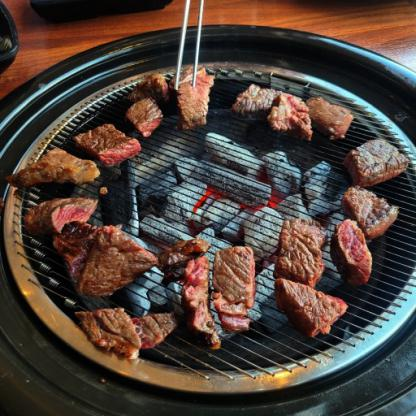Carne: (60, 219, 150, 300), (210, 239, 263, 330), (178, 254, 226, 346), (269, 219, 332, 285), (279, 277, 340, 343), (68, 118, 141, 170), (340, 180, 402, 240), (1, 150, 104, 184), (83, 302, 144, 358), (351, 136, 409, 191), (11, 190, 96, 227), (332, 220, 378, 285), (118, 96, 173, 137), (131, 306, 185, 346), (261, 96, 312, 138), (308, 97, 352, 137), (167, 87, 217, 121), (228, 86, 278, 115)
